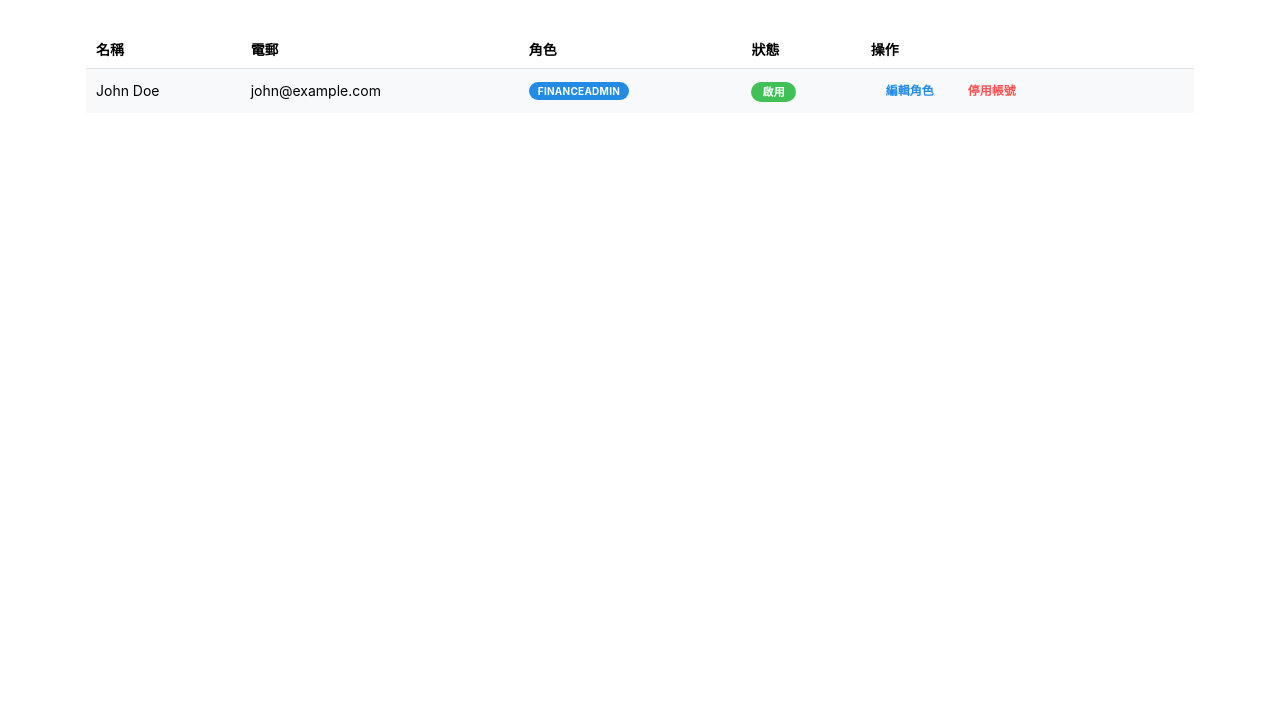
UserAdminPage › opens edit roles modal when edit button is clicked
This screenshot has width=1280, height=720.
expect the text "John Doe" is shown: met, box [86,68,241,113]
Click the button "編輯角色" at (910, 91), box [871,76,949,106]
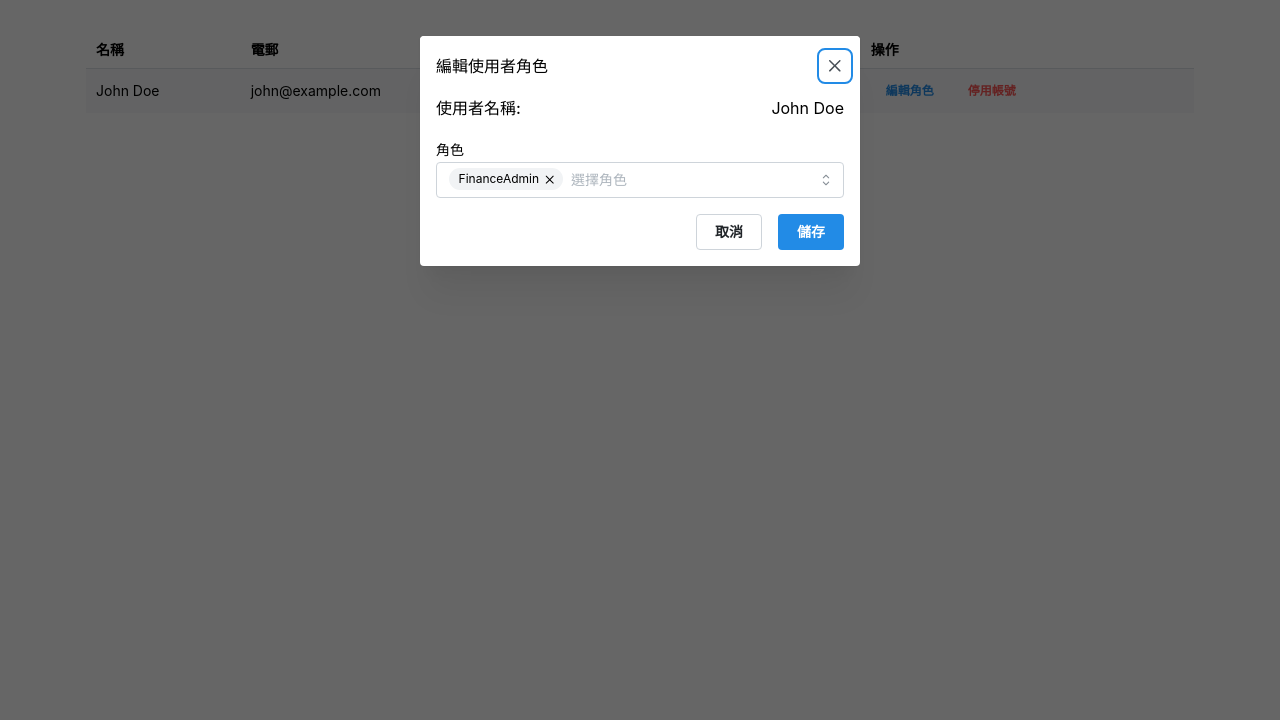
expect the heading "編輯使用者角色" is shown: met, box [436,58,548,74]
